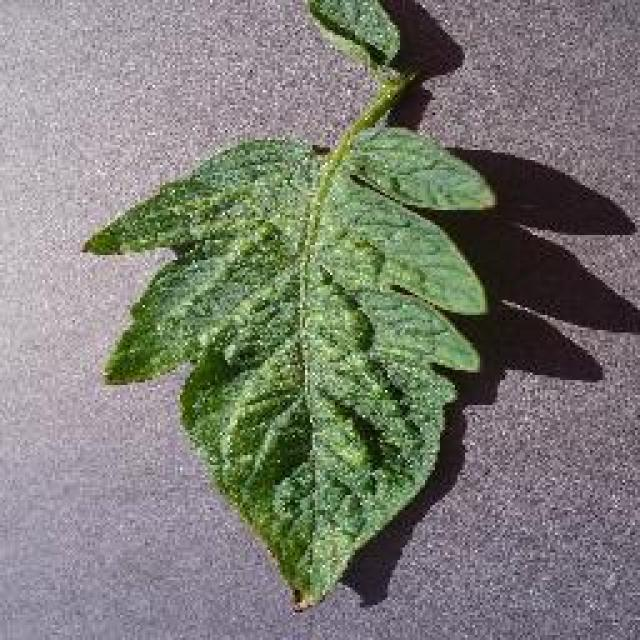Tomato___Spider_mites Two-spotted_spider_mite: (85, 0, 492, 610)
